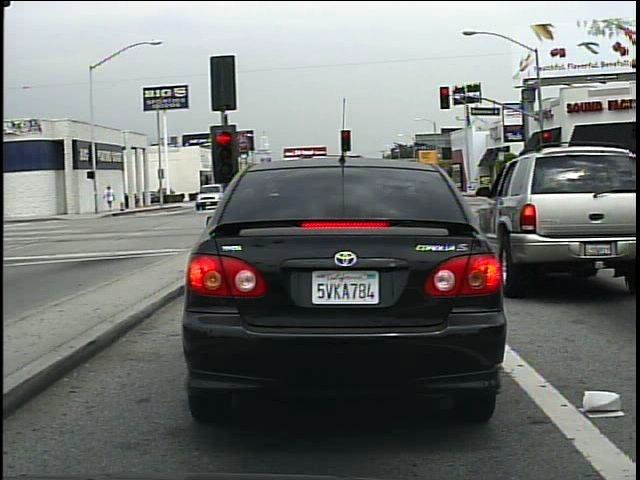person: (103, 182, 118, 212)
